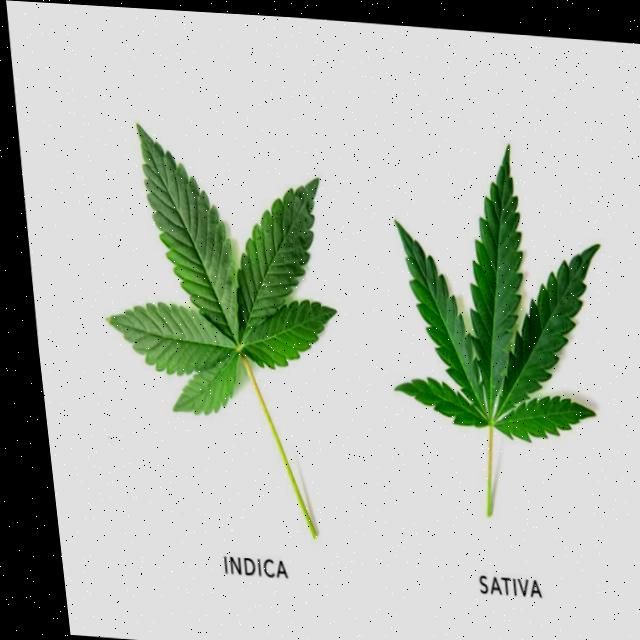cannabis: (104, 126, 337, 541), (392, 145, 599, 517)
